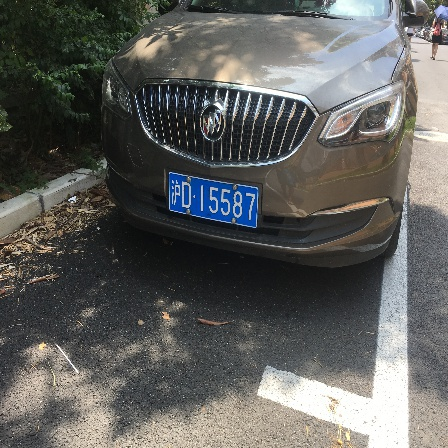plate: (168, 171, 260, 229)
